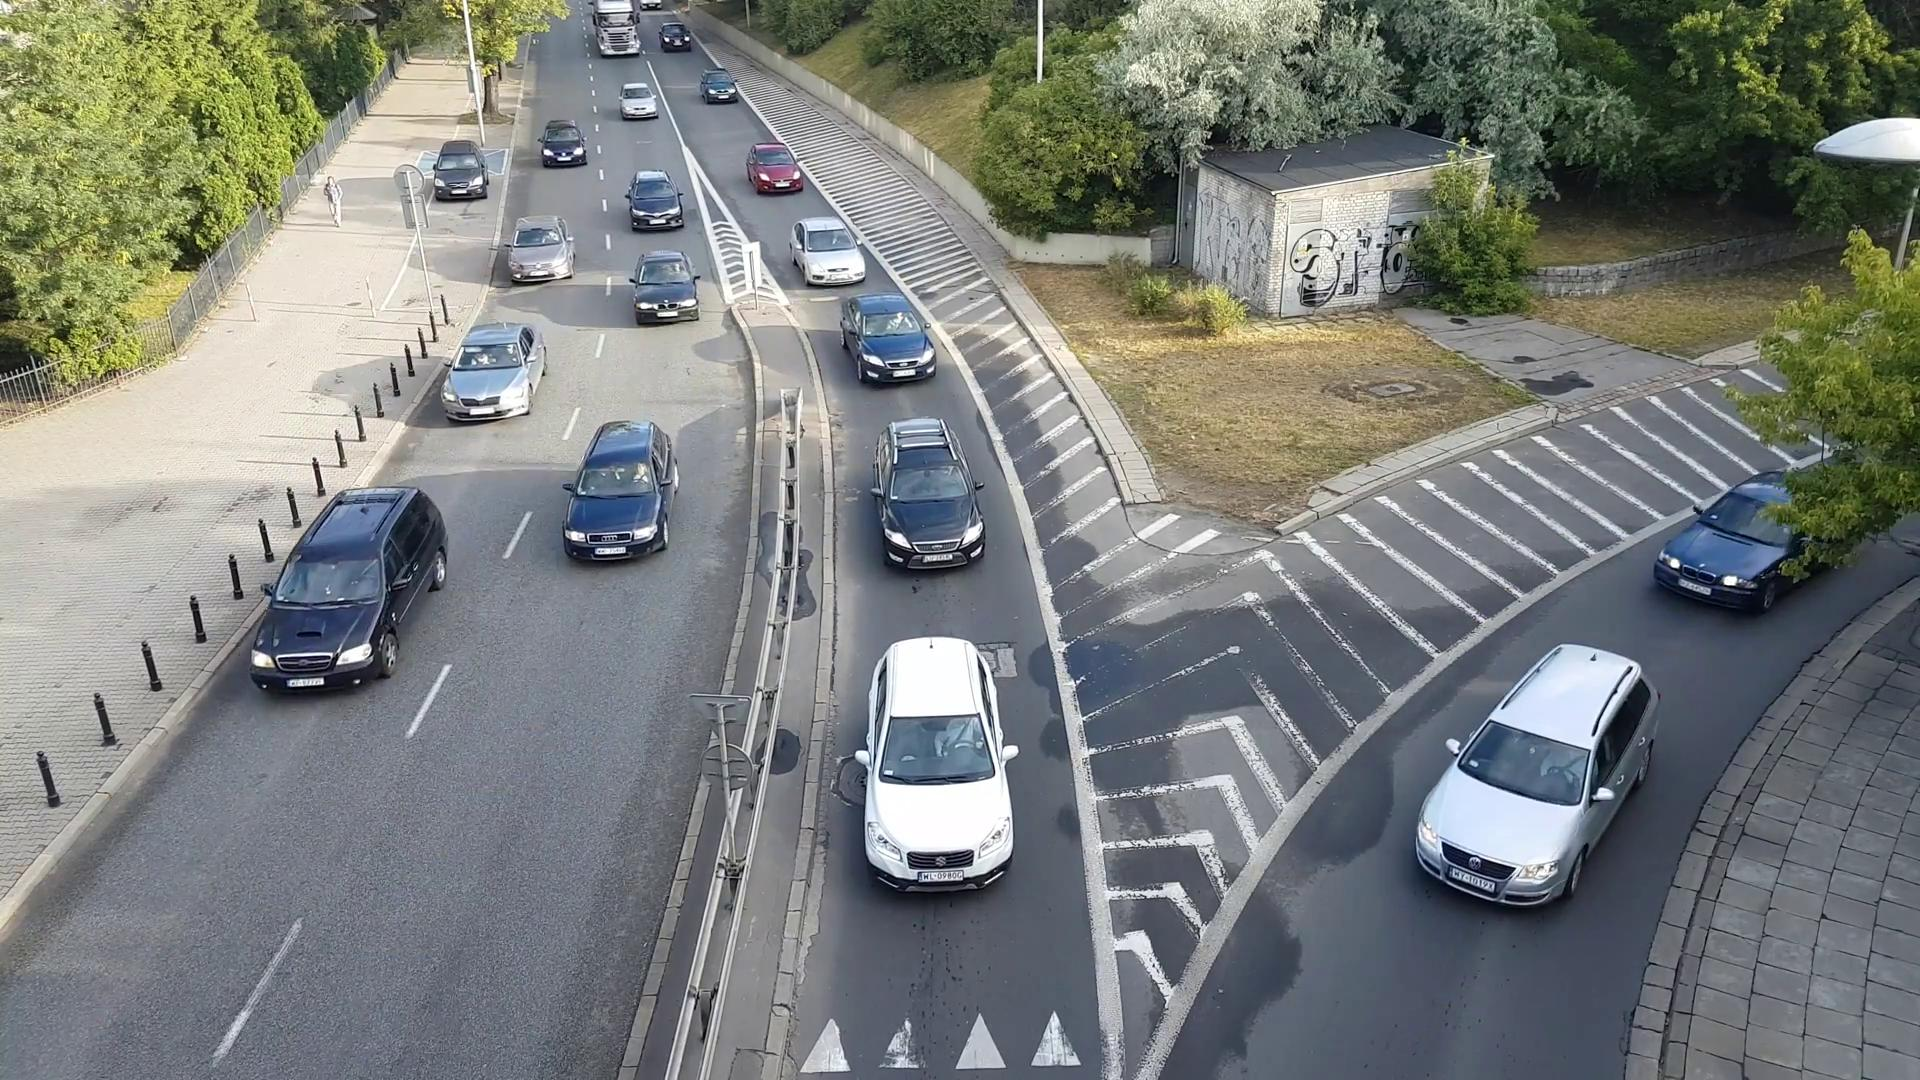bus: (582, 5, 647, 66)
car: (1406, 658, 1681, 907), (849, 625, 1026, 898), (244, 479, 455, 694), (1650, 459, 1847, 615), (555, 406, 684, 570), (868, 410, 989, 584), (436, 314, 555, 425), (839, 281, 940, 381), (785, 204, 866, 286), (624, 244, 702, 328), (504, 207, 582, 286), (620, 166, 688, 235), (433, 136, 491, 202), (744, 138, 803, 202), (535, 112, 588, 164), (694, 62, 741, 104), (615, 79, 661, 120), (657, 15, 696, 51)
